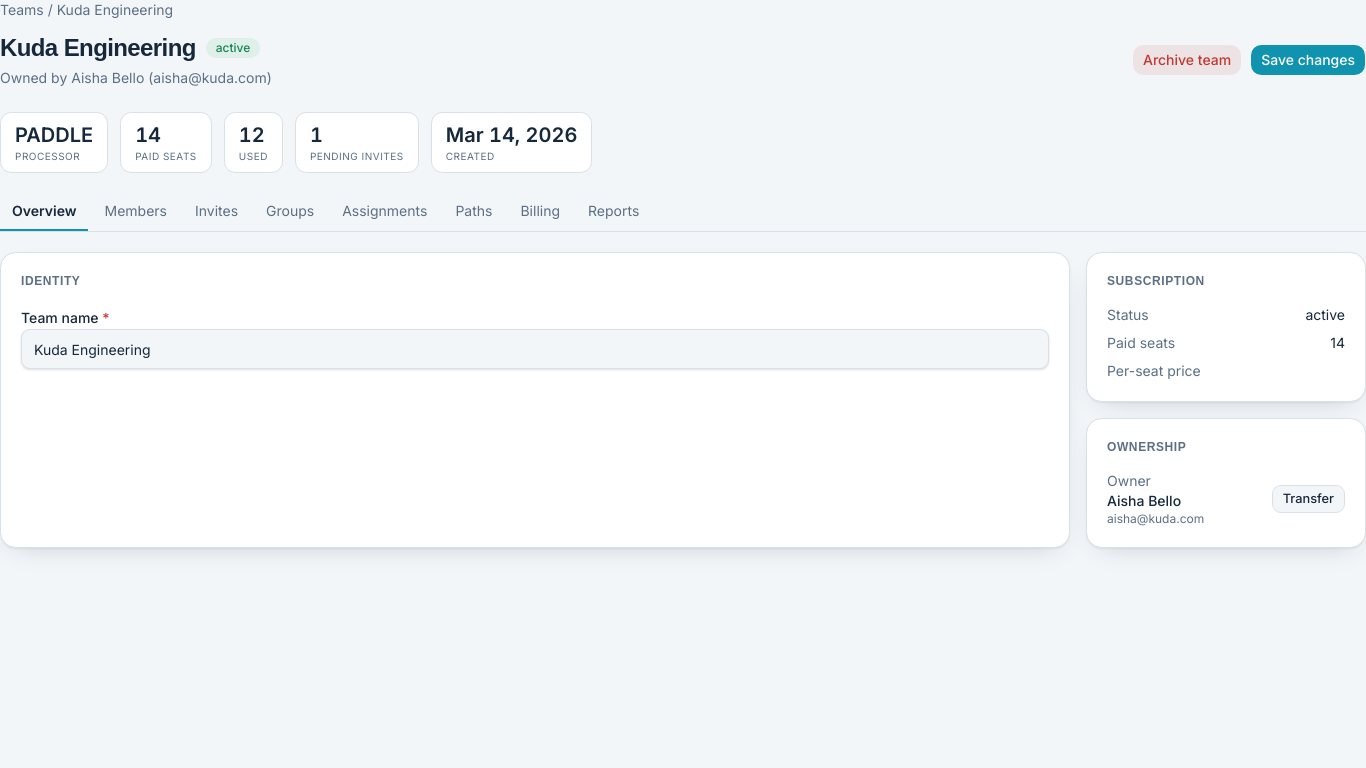
Test: TeamDetailClient › requires the exact team name before archiving is enabled
Click the button "Archive team" at (1187, 60), box [1132, 44, 1242, 76]
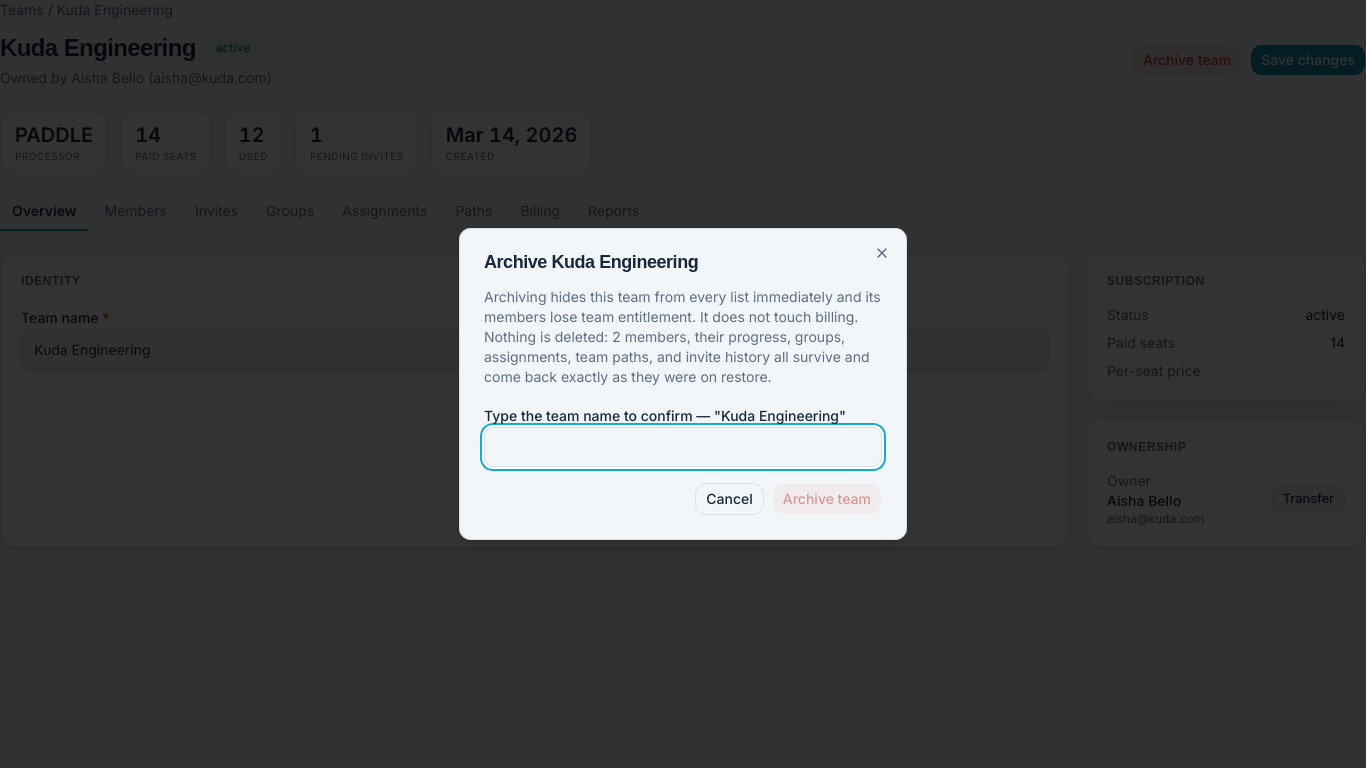
Type "Kuda" into the field labelled "Type the team name to confirm — \"Kuda Engineering\"" at (683, 447), box [484, 427, 882, 467]
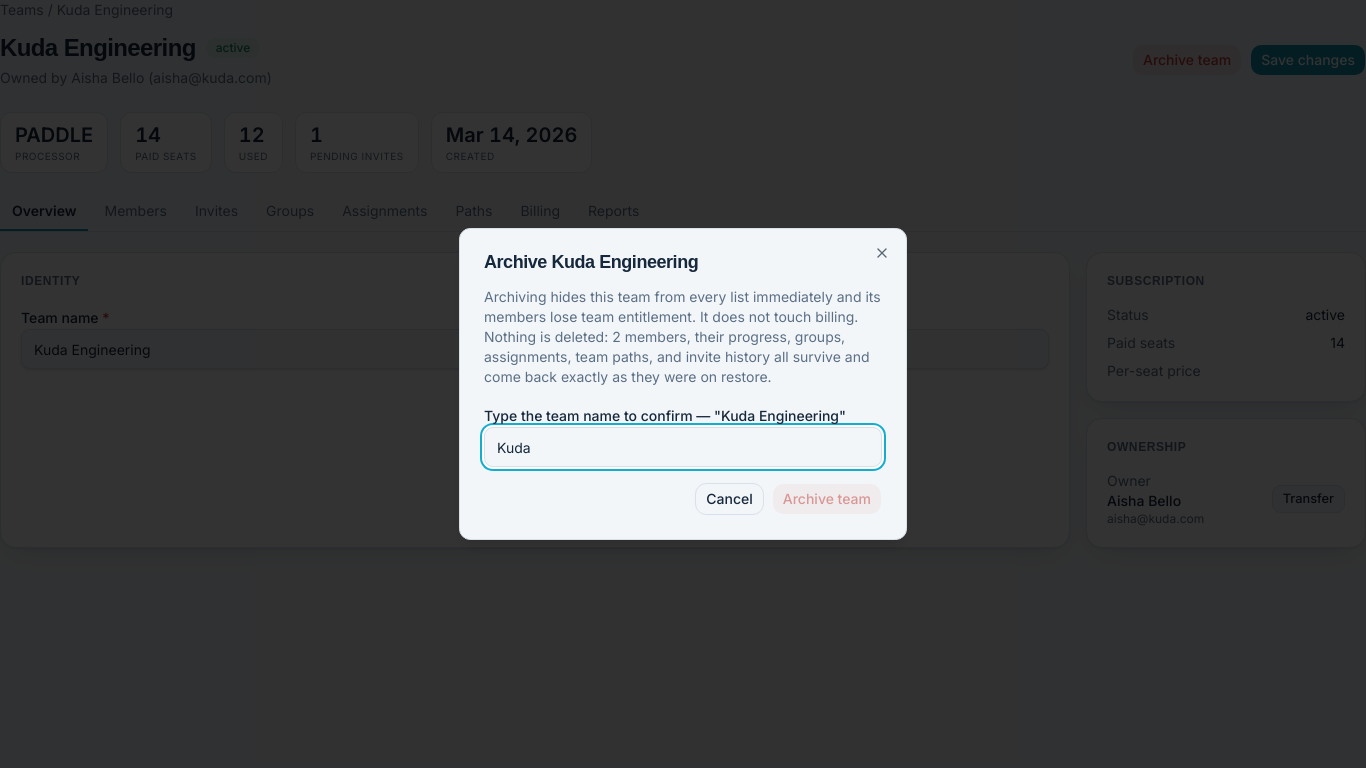
expect the button "Archive team" is disabled: met, box [772, 483, 882, 515]
Replace the text in the field labelled "Type the team name to confirm — \"Kuda Engineering\"" with "Kuda Engineering" at (683, 447), box [484, 427, 882, 467]
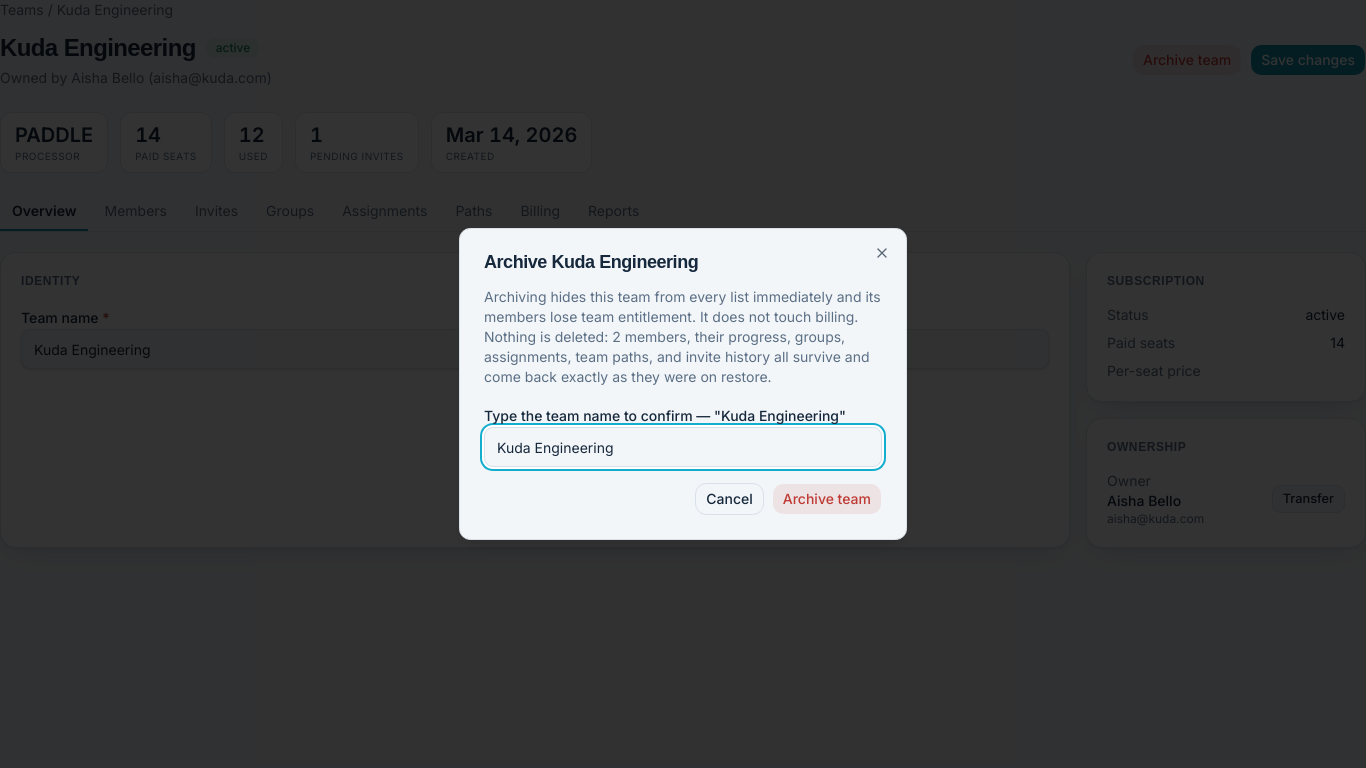
expect the button "Archive team" is enabled: met, box [772, 483, 882, 515]
